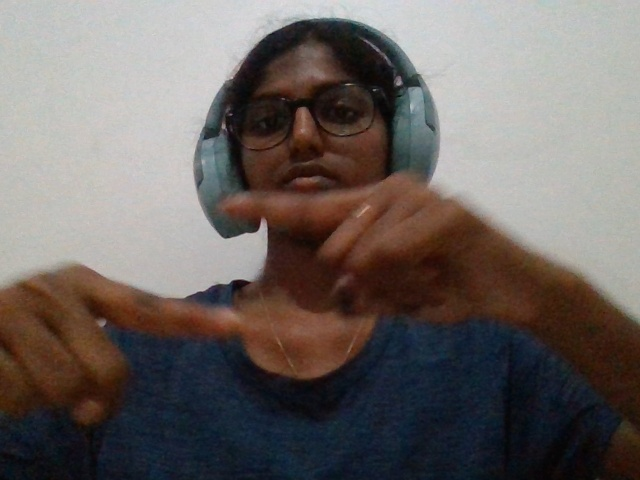Sign: (5, 162, 626, 456)
